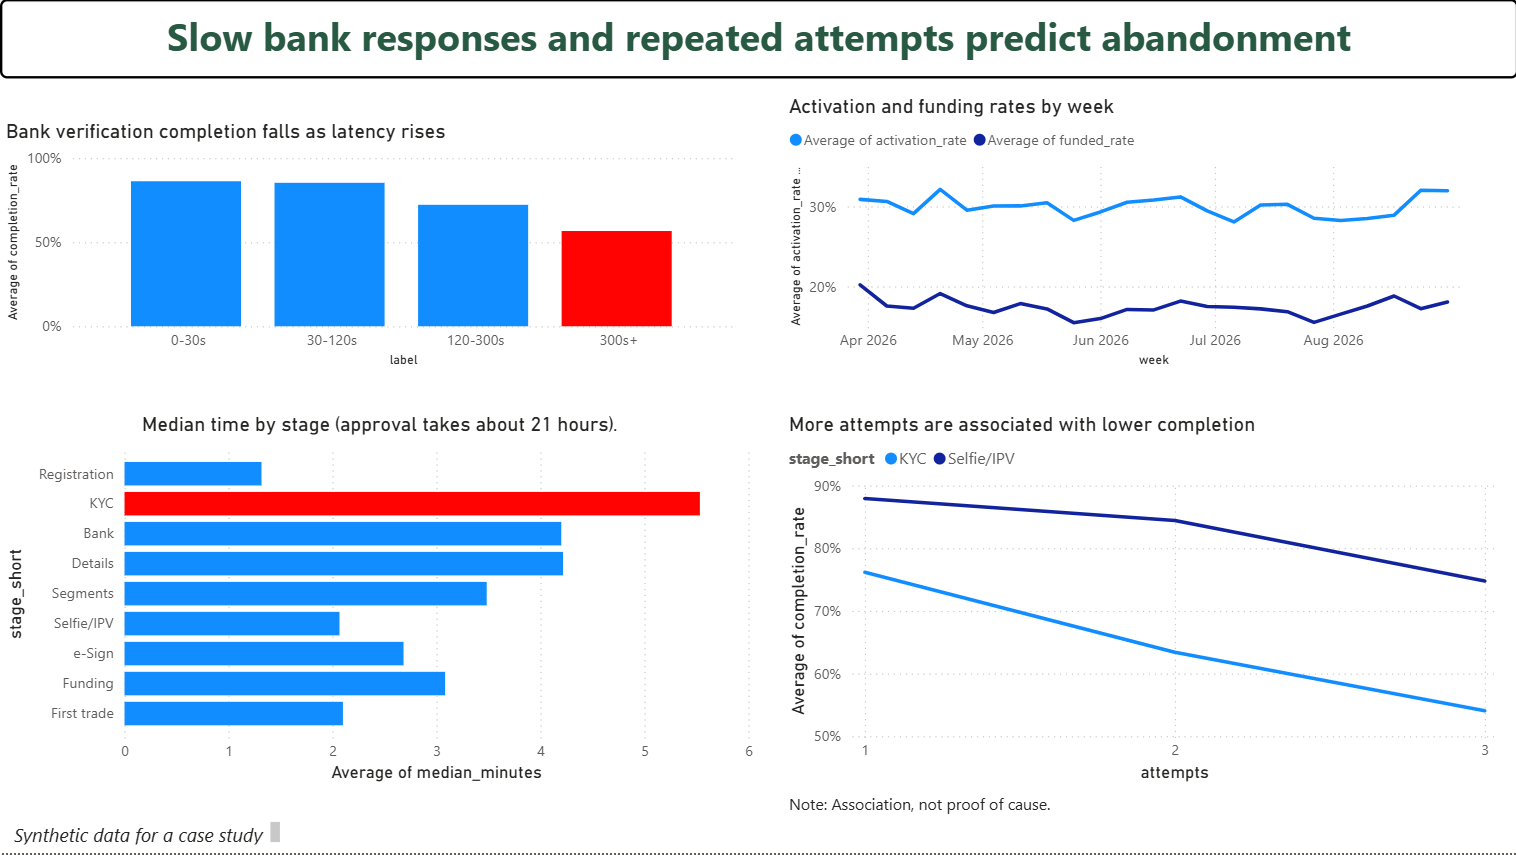

The page's visual inventory and layout, read from the dashboard file:
{"tool":"powerbi","page":{"name":" Speed and friction","canvas":[1280,720],"ordinal":3},"visuals":[{"type":"textbox","box":[0,0,1280,66.7],"z":0},{"type":"columnChart","title":"Bank verification completion falls as latency rises","fields":{"Category":["latency_analysis.label"],"Y":["Avg(latency_analysis.completion_rate)"]},"box":[0,101.2,623.8,213.8],"z":1000},{"type":"lineChart","title":"More attempts are associated with lower completion","fields":{"Category":["retry_analysis.attempts"],"Y":["Avg(retry_analysis.completion_rate)"],"Series":["retry_analysis.stage_short"]},"box":[660,347.8,606.7,316.7],"z":2000},{"type":"clusteredBarChart","title":"Median time by stage (approval takes about 21 hours).","fields":{"Category":["stage_timing.stage_short"],"Y":["Avg(stage_timing.median_minutes)"]},"box":[0,347.8,640,316.7],"z":3000},{"type":"lineChart","title":"Activation and funding rates by week","fields":{"Y":["Avg(weekly_trend.activation_rate)","Avg(weekly_trend.funded_rate)"],"Category":["weekly_trend.week"]},"box":[660,80,591.2,235],"z":4000},{"type":"textbox","box":[660,664.4,300,32.2],"z":6000},{"type":"textbox","box":[0,688.9,241.1,28.9],"z":6001}]}

Visuals, with their boxes in screenshot pixels (x1, y1, x2, y2), scaled from the page's 1280x720 canvas onto the 1516x855 screenshot:
textbox: box=[0, 0, 1515, 79]
"Bank verification completion falls as latency rises" columnChart: box=[0, 120, 739, 374]
"More attempts are associated with lower completion" lineChart: box=[782, 413, 1500, 789]
"Median time by stage (approval takes about 21 hours)." clusteredBarChart: box=[0, 413, 758, 789]
"Activation and funding rates by week" lineChart: box=[782, 95, 1482, 374]
textbox: box=[782, 789, 1137, 827]
textbox: box=[0, 818, 286, 852]
